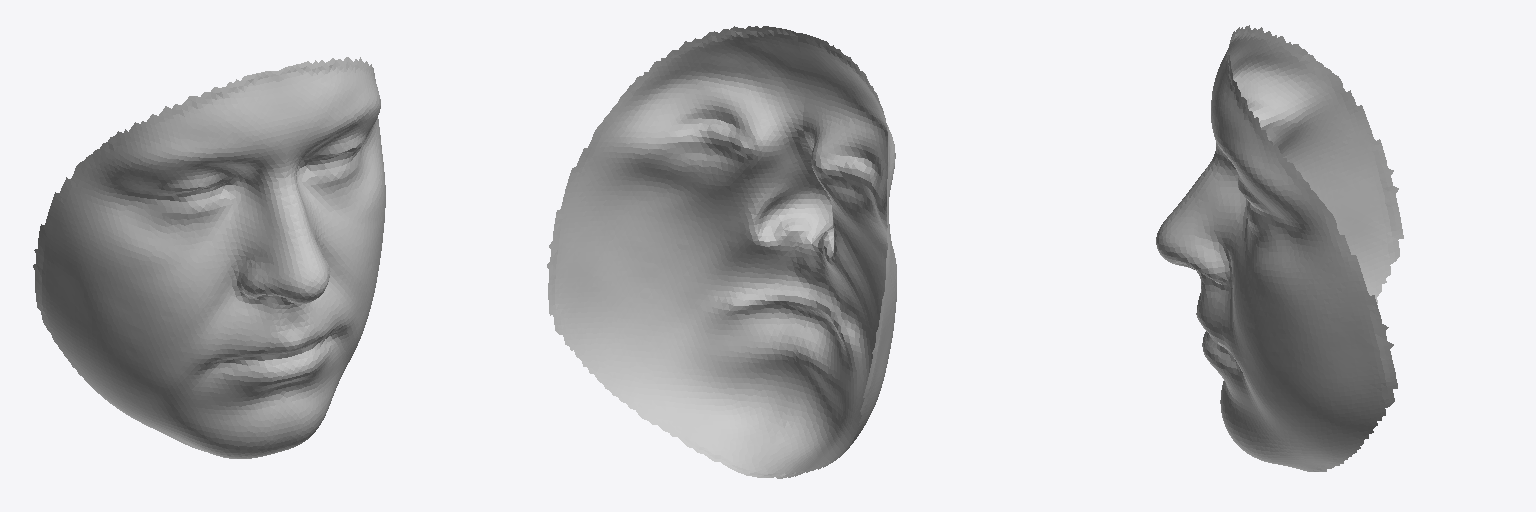
Rendered from SIMPOP_12.obj.
3 renders of one model, left to right at view 1: azimuth 30°, elevation 25°; view 2: azimuth 150°, elevation 25°; view 3: azimuth 270°, elevation 25°, orthographic.
Parts seen in each view (by area): view 1: SIMPOP_12; view 2: SIMPOP_12; view 3: SIMPOP_12.
Part boxes in pixels (x1,y1,x2,y2): SIMPOP_12: (33,57,385,458); SIMPOP_12: (547,26,896,478); SIMPOP_12: (1156,25,1403,471).
Bounding box in the file's own units: 153 × 184 × 99.82.